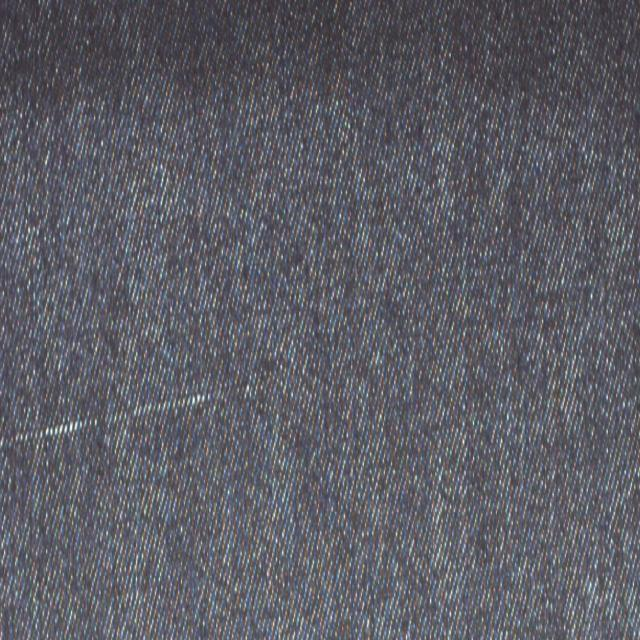Line: (0, 373, 262, 452)
